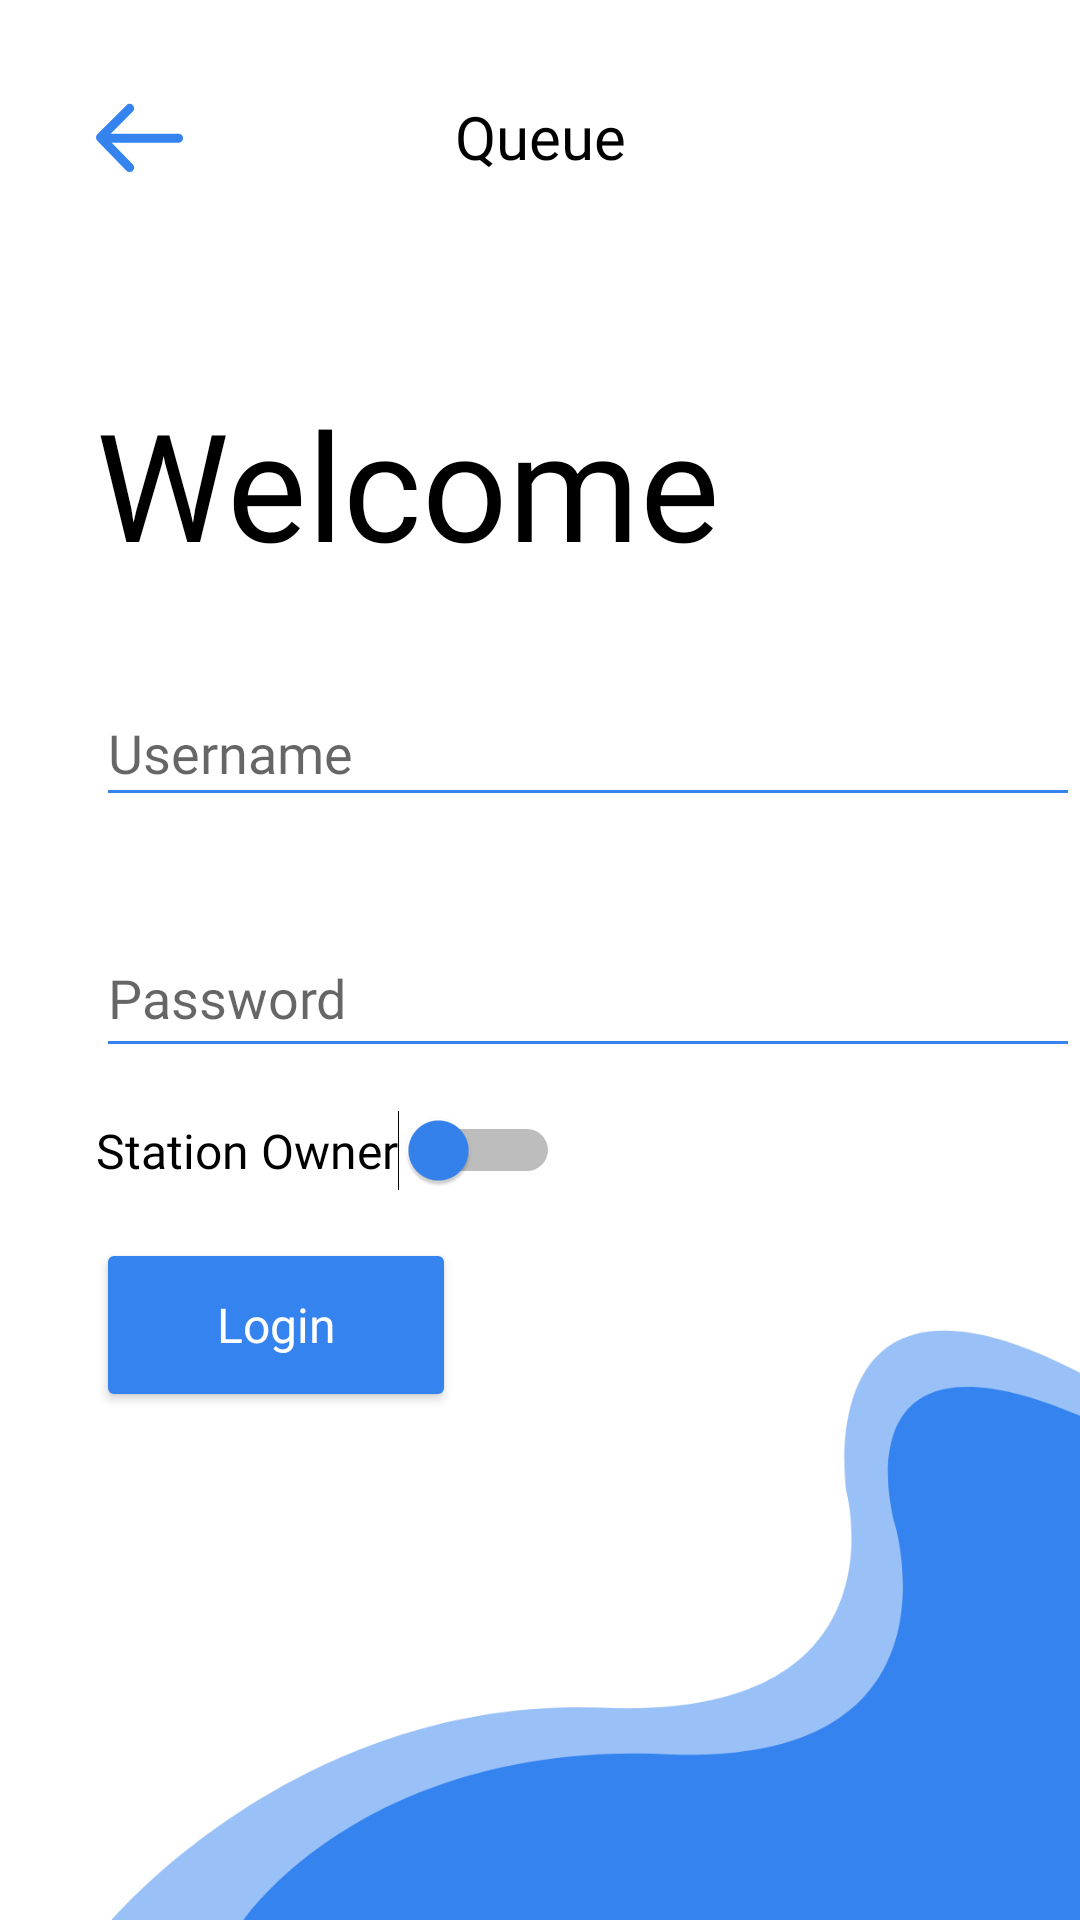

Icon bounding boxes for this 1080×1920 phone screenshot, format (x1, y1, x2, y2):
back: (96, 103, 183, 172)
